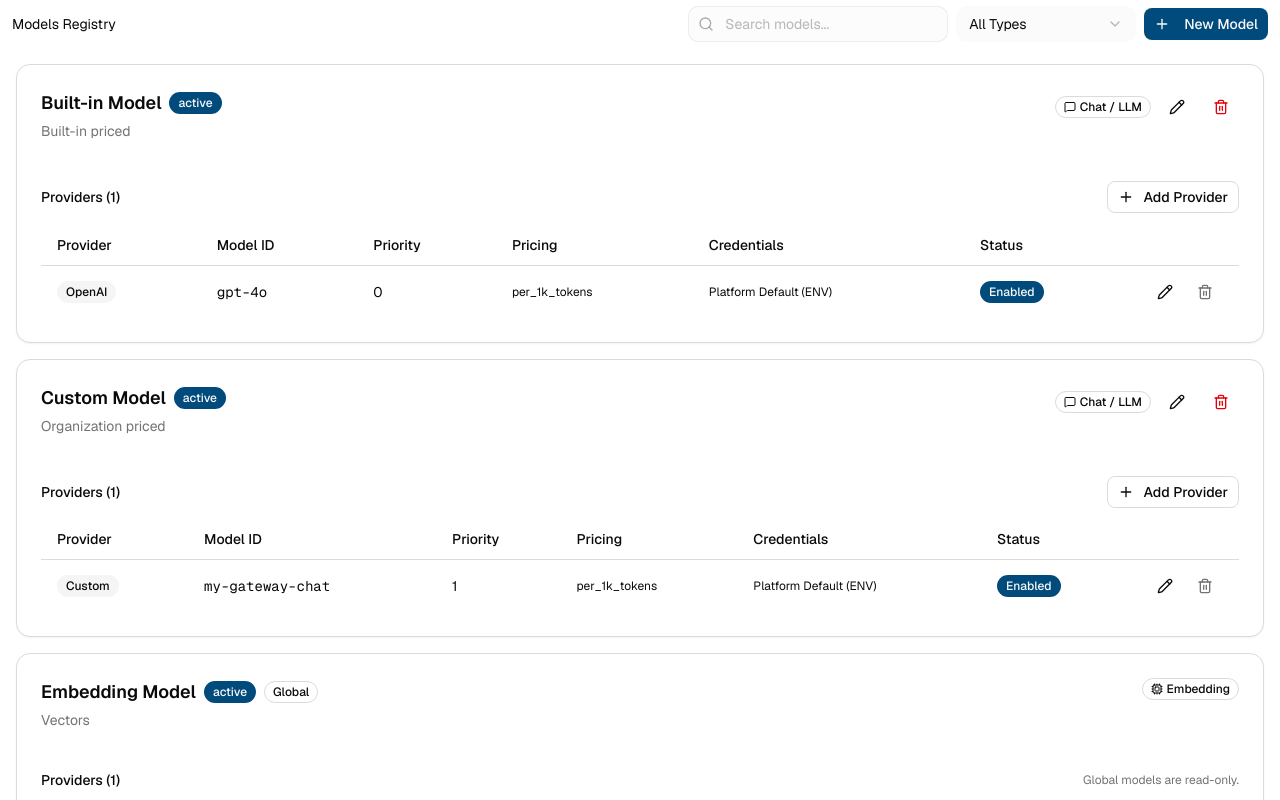
Test: Models Registry › filters the models list from the search input
In the search field with placeholder "Search models...": (818, 24) [688,6,948,42], type "embedding"
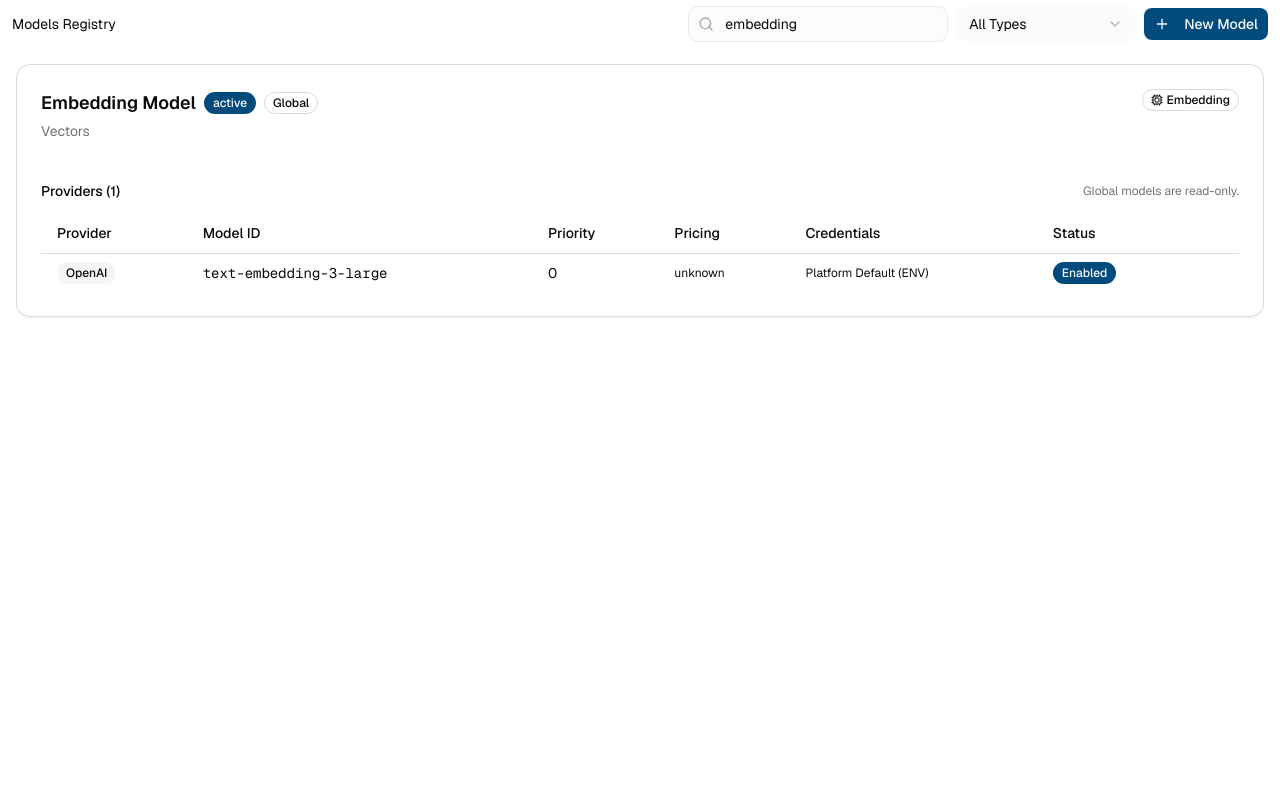
Expected: the text "Embedding Model" is shown, [41,89,196,117]
Now the text "Built-in Model" is gone
